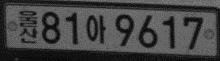1: (64, 11, 79, 46), (161, 14, 176, 49)
6: (137, 14, 159, 48)
7: (182, 15, 204, 49)
8: (40, 10, 61, 45)
9: (114, 13, 135, 47)
아: (85, 13, 106, 45)
울산_V: (17, 8, 39, 44)
